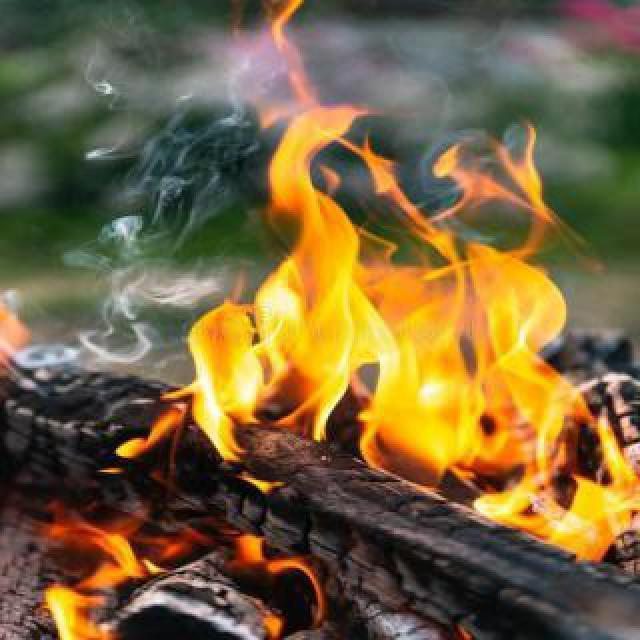Fire: (224, 108, 638, 534)
Smoke: (12, 54, 264, 378)
